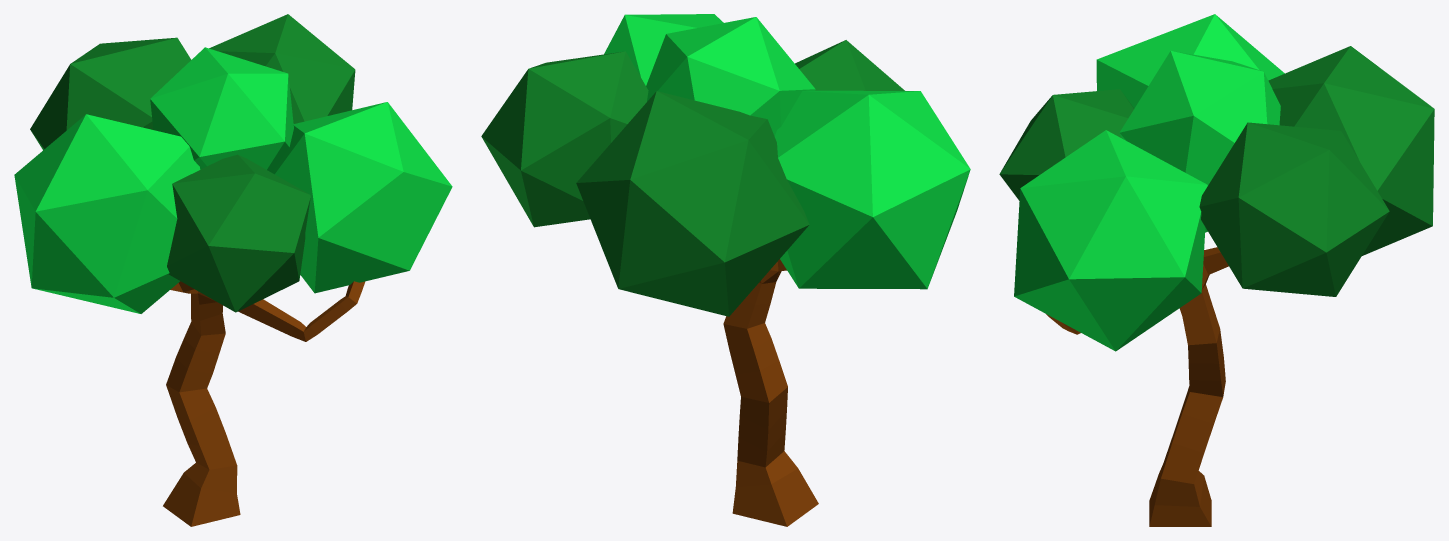
The model's file is low_poly_tree.glb.
3 renders of one model, left to right at view 1: azimuth 30°, elevation 25°; view 2: azimuth 150°, elevation 25°; view 3: azimuth 270°, elevation 25°, orthographic. The views are drawn at different scales.
Visible parts, largest first — view 1: Icosphere, Icosphere.004, Icosphere.002, Cube, Icosphere.005, Icosphere.001, Icosphere.003; view 2: Icosphere.001, Icosphere, Icosphere.003, Cube, Icosphere.005, Icosphere.004, Icosphere.002; view 3: Icosphere.004, Icosphere.003, Icosphere.001, Icosphere.005, Cube, Icosphere.002, Icosphere.
Boxes of the visible parts, x1=… form: Icosphere: x1=14, y1=114, x2=200, y2=313; Icosphere.004: x1=272, y1=102, x2=452, y2=293; Icosphere.002: x1=167, y1=154, x2=310, y2=312; Cube: x1=163, y1=281, x2=365, y2=526; Icosphere.005: x1=150, y1=47, x2=293, y2=172; Icosphere.001: x1=30, y1=37, x2=191, y2=150; Icosphere.003: x1=209, y1=14, x2=355, y2=123; Icosphere.001: x1=576, y1=91, x2=809, y2=316; Icosphere: x1=774, y1=90, x2=970, y2=289; Icosphere.003: x1=481, y1=51, x2=648, y2=227; Cube: x1=723, y1=259, x2=818, y2=526; Icosphere.005: x1=646, y1=17, x2=815, y2=136; Icosphere.004: x1=604, y1=14, x2=723, y2=85; Icosphere.002: x1=795, y1=40, x2=904, y2=90; Icosphere.004: x1=1014, y1=130, x2=1207, y2=351; Icosphere.003: x1=1199, y1=122, x2=1389, y2=296; Icosphere.001: x1=1268, y1=46, x2=1434, y2=255; Icosphere.005: x1=1119, y1=51, x2=1280, y2=185; Cube: x1=1046, y1=247, x2=1228, y2=526; Icosphere.002: x1=999, y1=89, x2=1134, y2=200; Icosphere: x1=1096, y1=14, x2=1284, y2=232.
Size of the model in its own units: 10.4 by 11.65 by 9.68.
